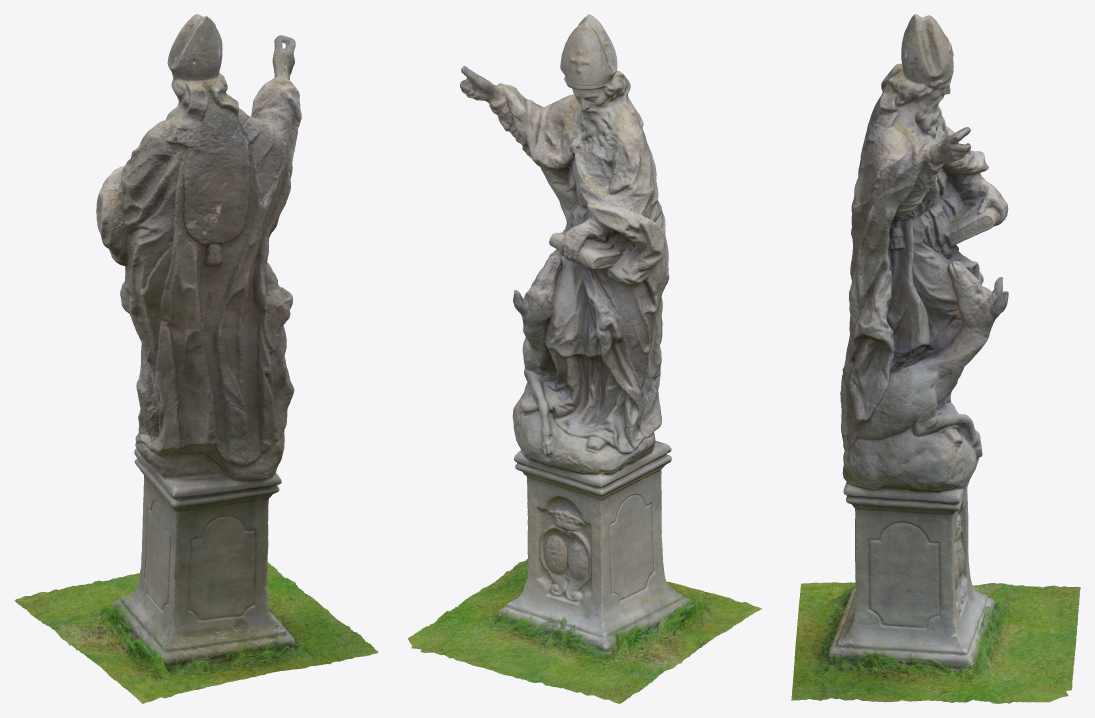
File: sf-st-cyril-statue-d00dfa.glb
3 views of the same model, side by side, from view 1: azimuth 30°, elevation 25°; view 2: azimuth 150°, elevation 25°; view 3: azimuth 270°, elevation 25° (orthographic). The views are drawn at different scales.
Parts seen in each view (by area): view 1: Model_material1_0, Model_material0_0, Model_material2_0; view 2: Model_material2_0, Model_material0_0, Model_material1_0; view 3: Model_material1_0, Model_material0_0, Model_material2_0.
Boxes of the visible parts, x1,y1,x2,y2 form: Model_material1_0: [14, 108, 298, 703]; Model_material0_0: [78, 14, 352, 636]; Model_material2_0: [96, 28, 378, 668]; Model_material2_0: [489, 34, 664, 651]; Model_material0_0: [407, 14, 671, 687]; Model_material1_0: [506, 94, 761, 703]; Model_material1_0: [794, 101, 1080, 660]; Model_material0_0: [840, 14, 1077, 703]; Model_material2_0: [791, 25, 1008, 700].
Size of the model in its own units: 0.8402 by 2.08 by 0.8623.
Materials: 3 (3 with a texture image).
